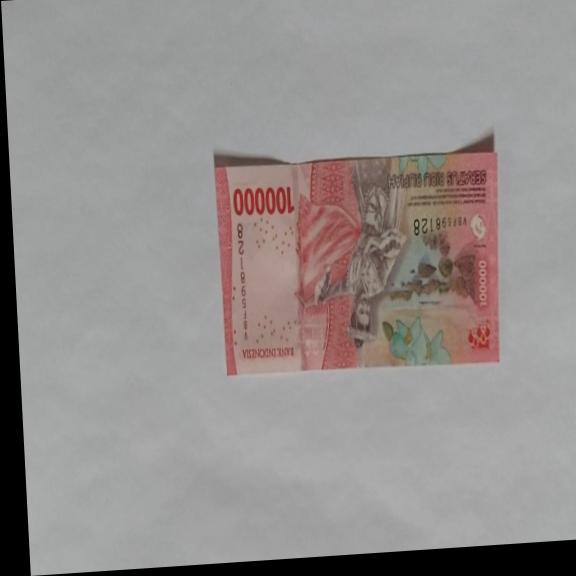Kertas: (213, 140, 507, 381), (231, 182, 295, 220)
